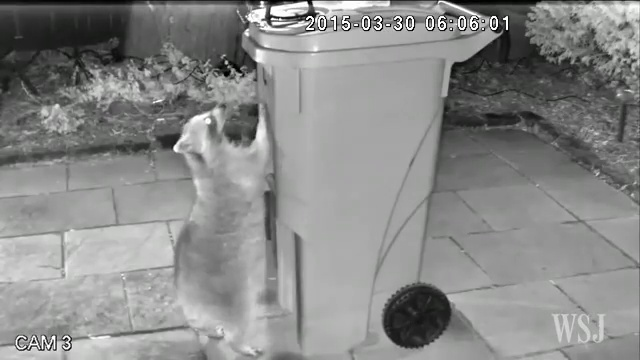raccoon: (168, 97, 283, 360)
